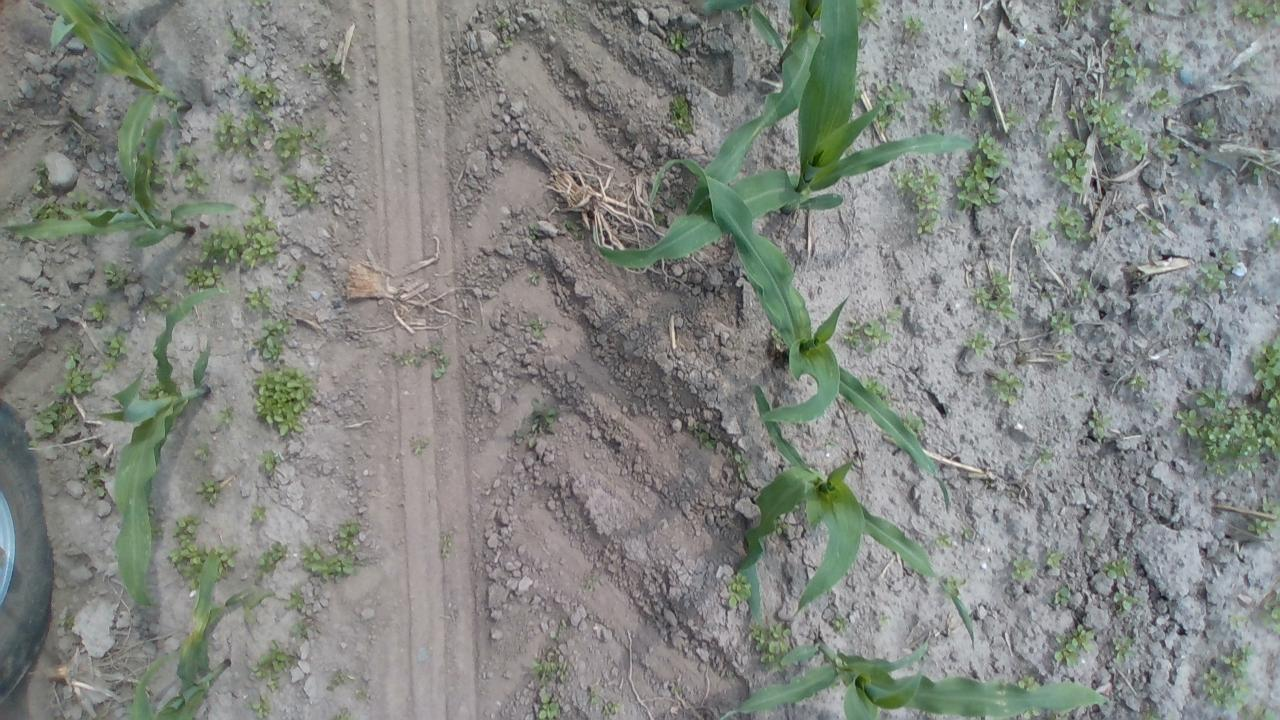Maize: (646, 156, 949, 511), (590, 0, 970, 272), (734, 388, 976, 650), (95, 284, 224, 608), (710, 624, 1117, 720), (42, 0, 194, 226), (8, 114, 242, 246), (128, 550, 264, 720), (746, 0, 816, 125), (701, 0, 758, 12)
Weeds: (1176, 384, 1250, 477), (196, 198, 282, 268), (253, 364, 316, 436), (1196, 646, 1258, 716), (954, 133, 1008, 213), (1082, 93, 1146, 159), (1251, 338, 1280, 472), (1104, 4, 1150, 87), (300, 520, 362, 581), (896, 166, 944, 236), (166, 518, 206, 592), (1046, 132, 1092, 194), (748, 616, 792, 676), (210, 109, 266, 156), (54, 342, 96, 399), (272, 120, 328, 162), (250, 639, 296, 690), (971, 272, 1017, 320), (512, 400, 558, 448), (394, 344, 450, 381), (1051, 621, 1097, 666), (32, 399, 77, 443), (874, 79, 910, 132), (172, 145, 210, 195), (252, 317, 291, 364), (1052, 203, 1094, 245), (1199, 249, 1239, 292), (844, 318, 894, 352), (236, 75, 280, 113), (280, 168, 321, 207), (81, 450, 110, 498), (990, 368, 1024, 406), (1246, 500, 1280, 537), (101, 330, 130, 373), (960, 80, 991, 120), (1232, 0, 1280, 25), (256, 541, 289, 577), (667, 93, 694, 136), (183, 264, 225, 291), (588, 688, 622, 720), (302, 57, 346, 81), (531, 653, 568, 681), (250, 158, 280, 191), (214, 542, 242, 577), (226, 26, 256, 56), (1110, 632, 1136, 664), (495, 10, 518, 46), (726, 574, 750, 608), (196, 475, 222, 506), (1102, 555, 1134, 580), (1088, 410, 1112, 443), (964, 330, 992, 358), (1112, 587, 1139, 615), (1011, 554, 1036, 584), (925, 100, 949, 131), (102, 264, 130, 290), (258, 448, 284, 475), (1190, 324, 1217, 350), (1056, 0, 1092, 19), (1193, 118, 1224, 140), (1156, 50, 1184, 74), (693, 422, 715, 452), (1048, 311, 1074, 336), (858, 0, 884, 25), (86, 298, 112, 323), (1155, 134, 1180, 160), (1044, 548, 1070, 573), (943, 61, 970, 85), (1261, 600, 1280, 634), (33, 162, 52, 196), (903, 412, 926, 440), (1186, 0, 1214, 23), (1146, 88, 1175, 110), (32, 201, 62, 222), (64, 187, 94, 208), (536, 693, 561, 718), (248, 287, 274, 311), (666, 28, 690, 54), (1173, 185, 1199, 209), (1186, 150, 1212, 174), (728, 447, 748, 478), (862, 378, 890, 400), (520, 316, 548, 338), (1036, 112, 1060, 137), (832, 612, 854, 639), (438, 530, 456, 562), (902, 13, 924, 39), (249, 695, 273, 718), (142, 378, 166, 401), (150, 292, 179, 311), (561, 218, 586, 240), (1072, 279, 1097, 301), (548, 617, 570, 642), (148, 160, 169, 186), (219, 404, 239, 431), (579, 571, 604, 592), (1024, 228, 1052, 246), (1015, 674, 1040, 694), (1139, 214, 1161, 236), (1052, 586, 1072, 610), (284, 590, 306, 611), (1129, 371, 1150, 393), (1001, 105, 1020, 129), (1264, 222, 1280, 250), (1248, 706, 1280, 720), (290, 620, 311, 640), (287, 264, 306, 286), (1176, 284, 1196, 304), (1226, 613, 1247, 632), (526, 272, 548, 290), (56, 611, 75, 631), (138, 41, 156, 62), (932, 532, 952, 550), (330, 670, 348, 690), (946, 574, 965, 592), (250, 504, 267, 524), (774, 517, 791, 537), (886, 306, 904, 324), (193, 442, 210, 461), (1053, 352, 1076, 366), (1250, 166, 1264, 189), (527, 222, 542, 243), (411, 437, 428, 455), (1036, 448, 1053, 466), (152, 523, 167, 542), (738, 4, 758, 18), (959, 526, 976, 542), (1022, 709, 1046, 720), (649, 210, 666, 225), (771, 330, 785, 348), (664, 193, 679, 209), (1152, 401, 1167, 416), (334, 709, 354, 720), (246, 0, 270, 9), (668, 681, 682, 696), (1142, 709, 1160, 720), (878, 614, 891, 626), (1066, 108, 1078, 120), (356, 688, 370, 698), (148, 498, 154, 512)
